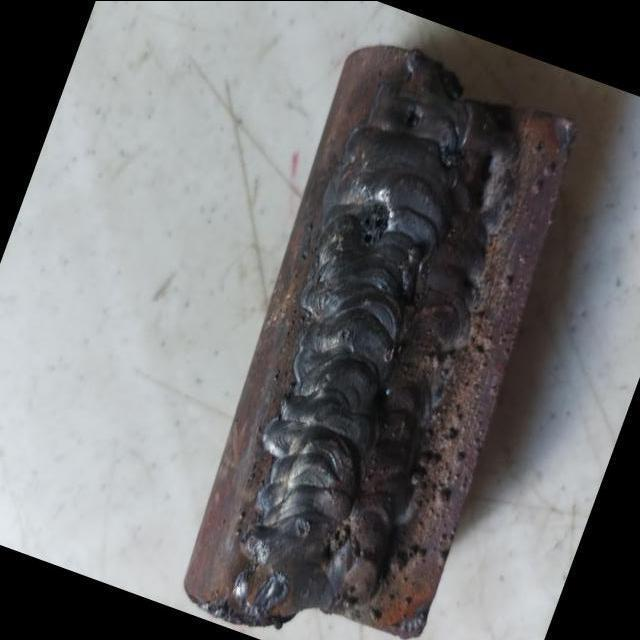defect: (351, 194, 395, 252), (324, 520, 351, 561), (438, 138, 464, 174), (400, 104, 425, 137), (294, 515, 314, 538), (339, 322, 358, 342)
